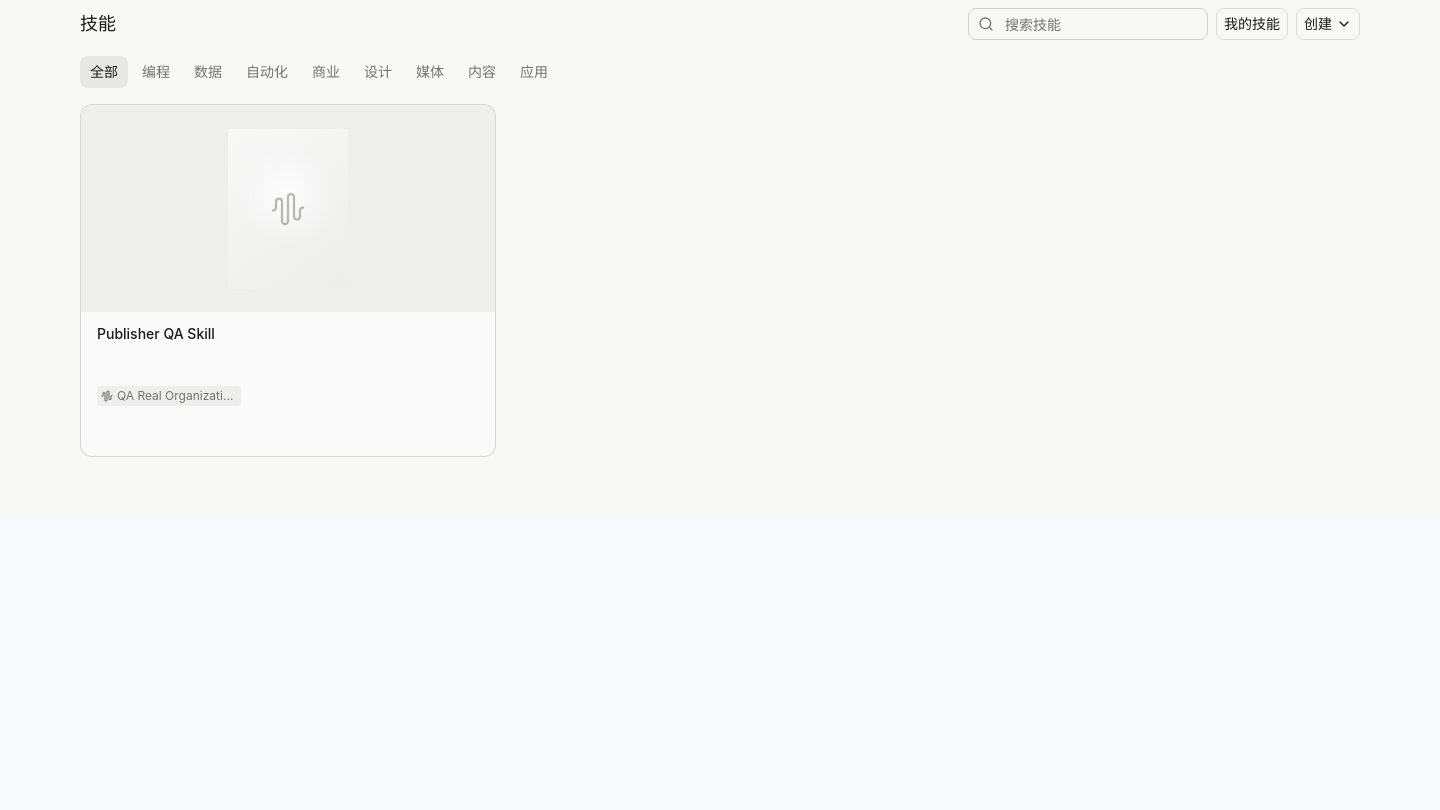
Test: shows only the same proven publisher in catalog and detail: QA Real Organization
Expected: the text "QA Real Organization" is shown, [117, 388, 237, 404]
Click the button "Publisher QA Skill" at (156, 334), box [97, 324, 215, 344]
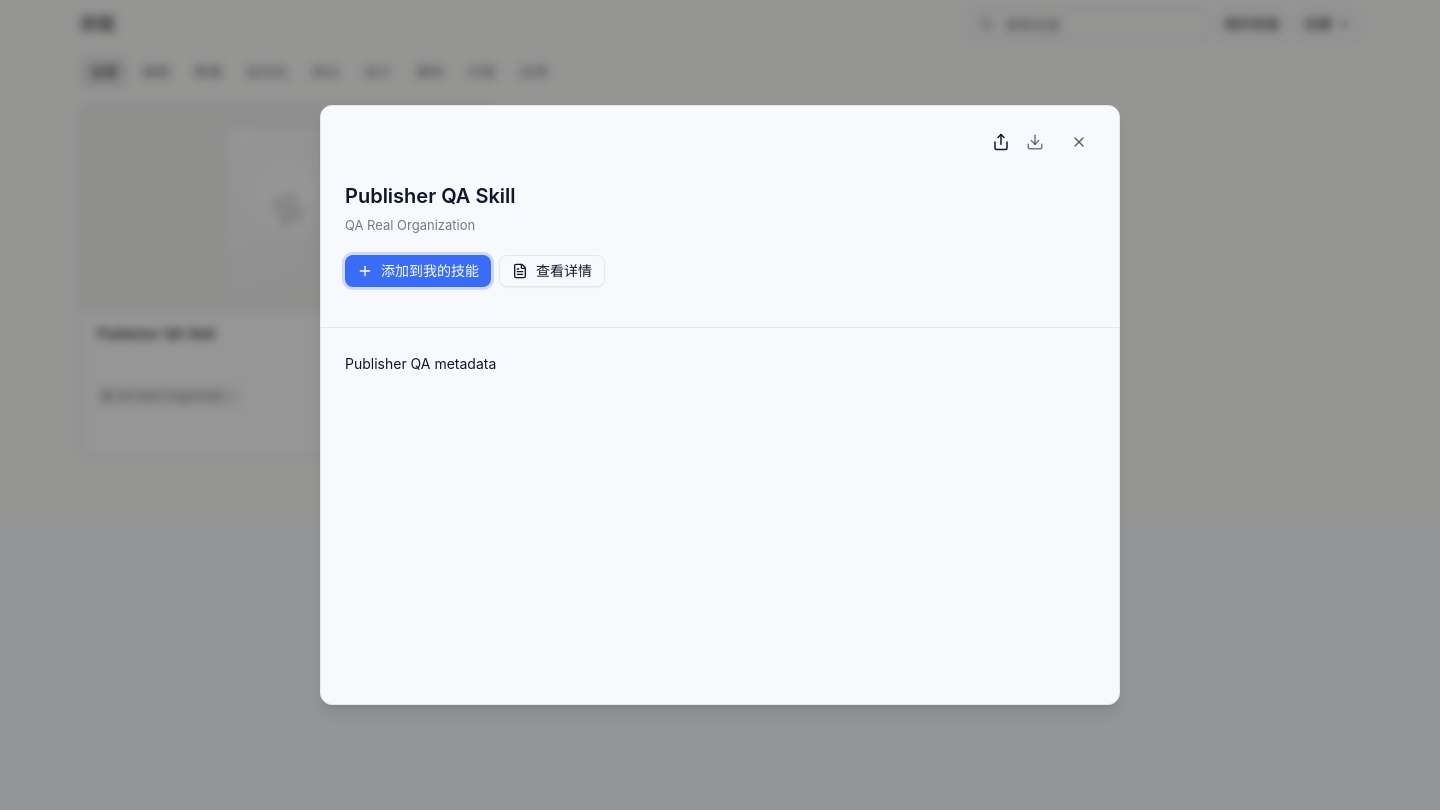
Result: the text "Publisher QA metadata" is shown at [345, 355, 496, 372]
Result: the text "QA Real Organization" is shown at [345, 214, 475, 234]
